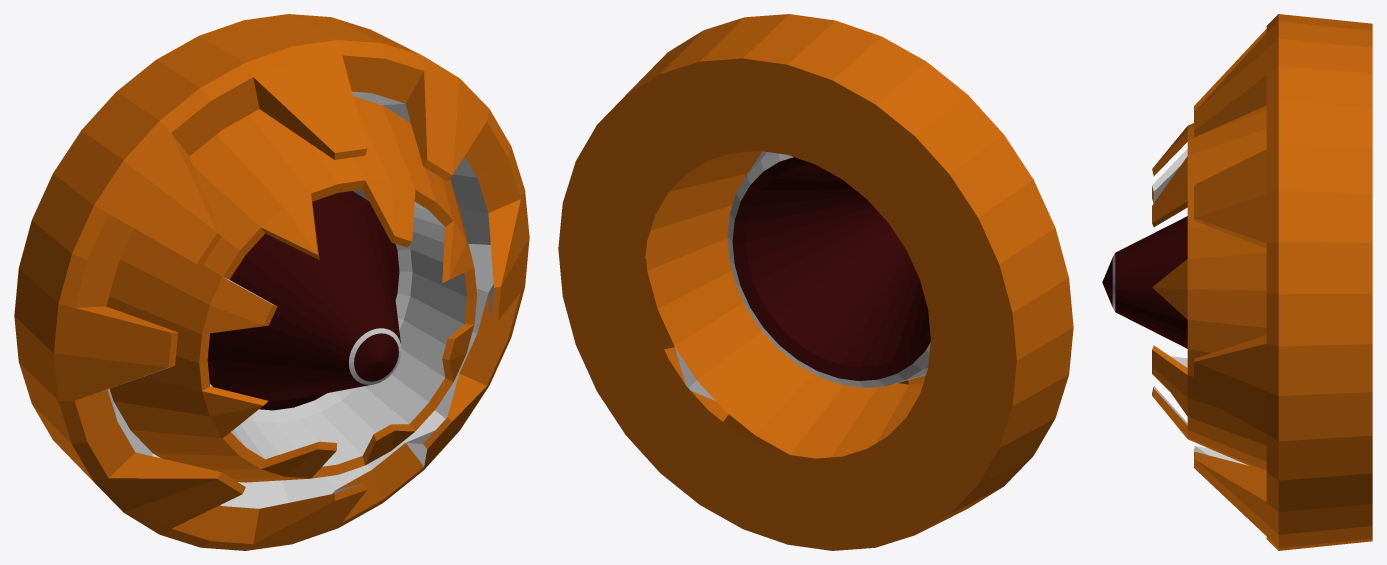
The model's file is BossWheelSplit_Spike.FBX.
3 renders of one model, left to right at view 1: azimuth 30°, elevation 25°; view 2: azimuth 150°, elevation 25°; view 3: azimuth 270°, elevation 25°, orthographic. The views are drawn at different scales.
Parts seen in each view (by area): view 1: wheelBossSpike; view 2: wheelBossSpike; view 3: wheelBossSpike.
Part boxes in pixels (box(x1,y1,x2,y2)): wheelBossSpike: box(14, 14, 529, 550); wheelBossSpike: box(558, 14, 1073, 550); wheelBossSpike: box(1102, 14, 1372, 550).
Size of the model in its own units: 155 by 155 by 78.
